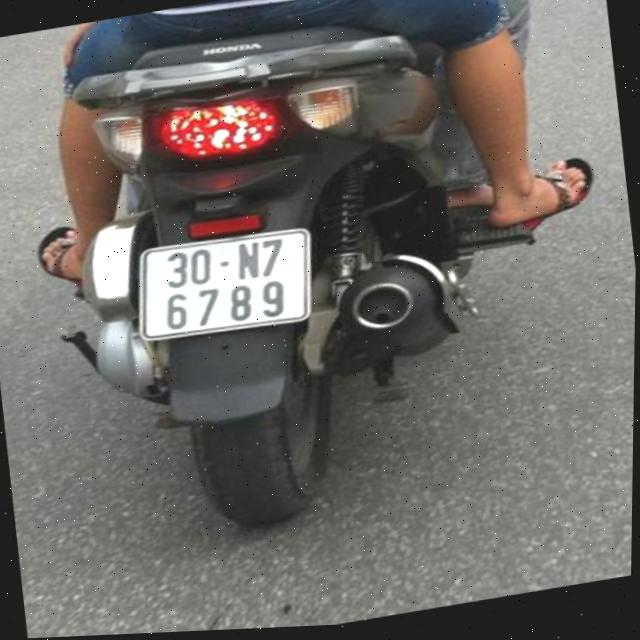motorcycle: (26, 9, 502, 553)
plate: (129, 216, 325, 352)
